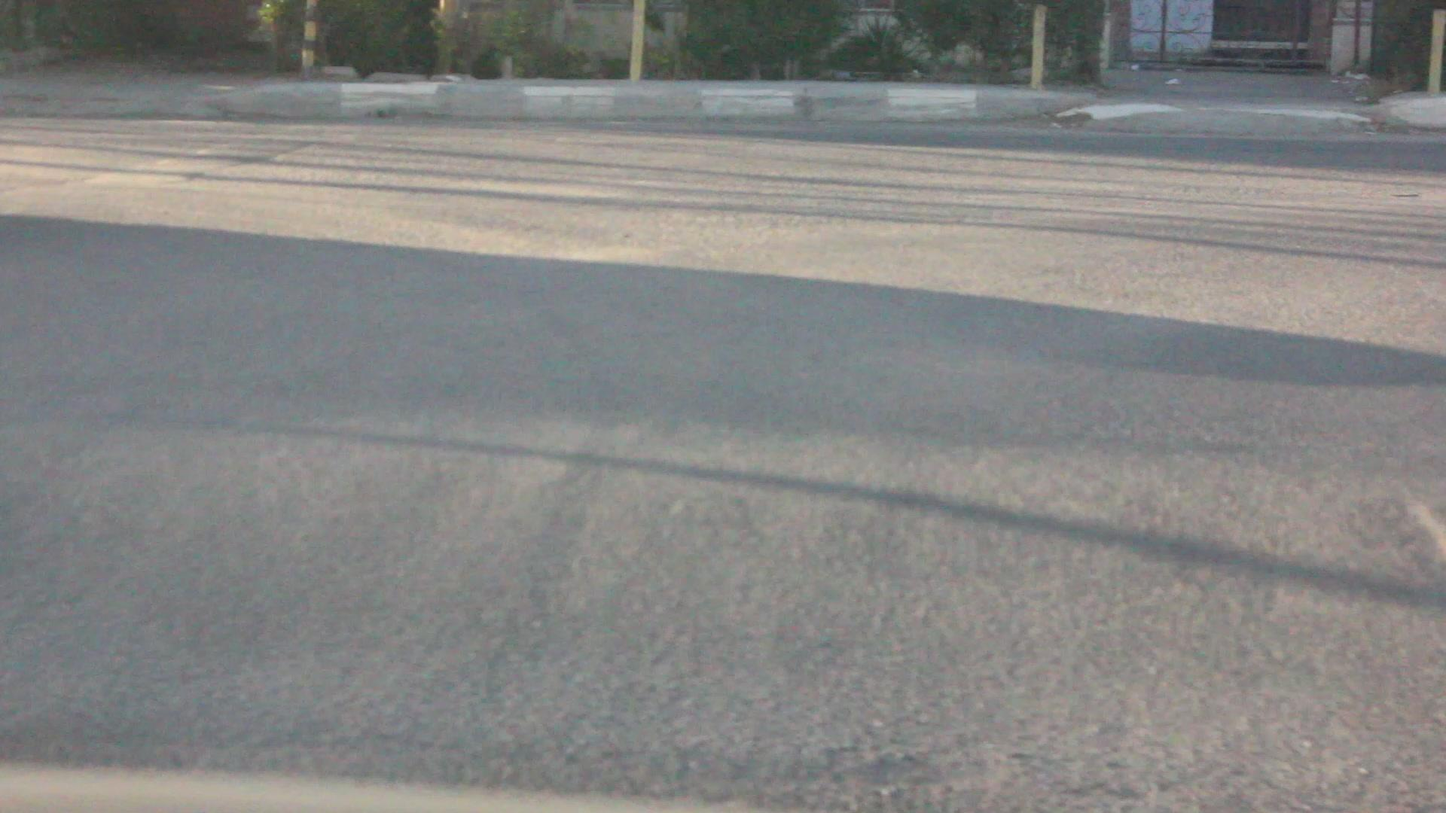Bump: (26, 438, 1446, 743)
